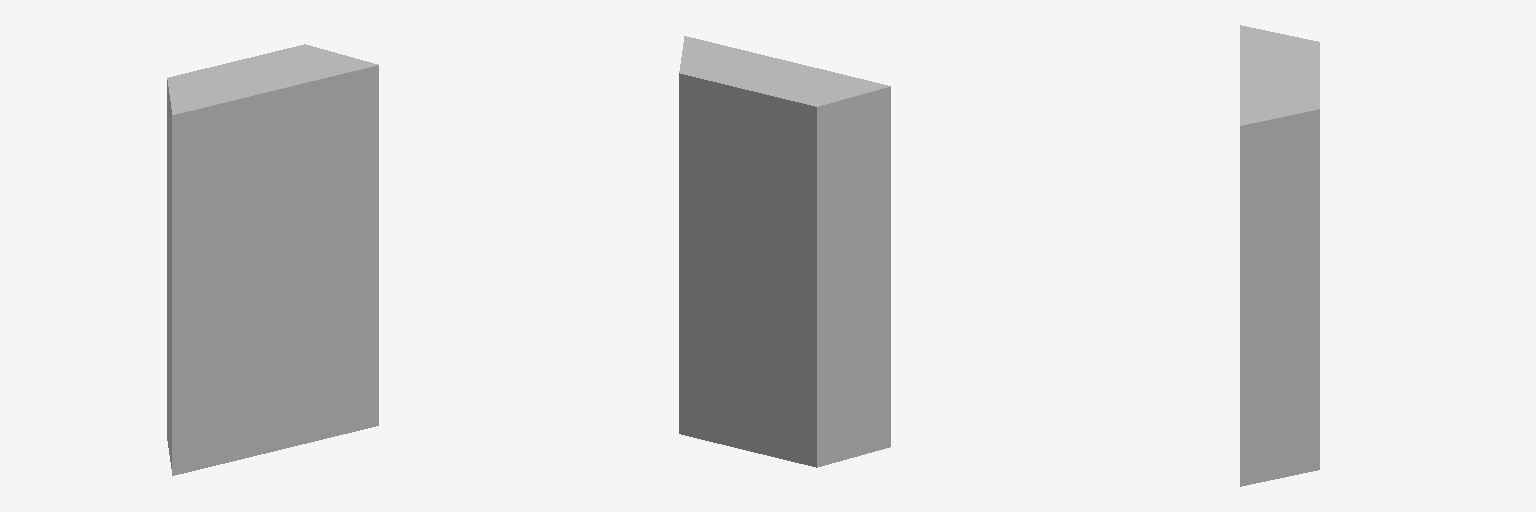
The model's file is wall-a-detail.obj.
3 views of the same model, side by side, from view 1: azimuth 30°, elevation 25°; view 2: azimuth 150°, elevation 25°; view 3: azimuth 270°, elevation 25° (orthographic).
Parts seen in each view (by area): view 1: wall-a-detail; view 2: wall-a-detail; view 3: wall-a-detail.
Part boxes in pixels (x1,y1,x2,y2): wall-a-detail: (167,44,378,475); wall-a-detail: (679,36,890,467); wall-a-detail: (1240,25,1319,486).
Bounding box in the file's own units: 0.6 × 1 × 0.2.